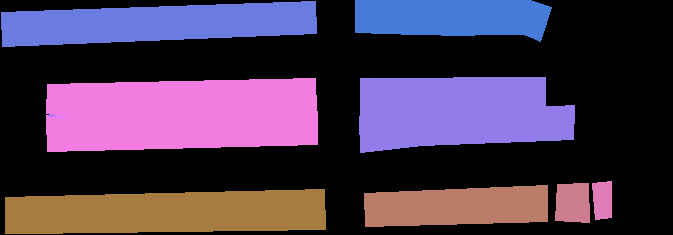parkingspot: (1, 1, 316, 46), (5, 189, 325, 233), (46, 78, 316, 119), (46, 111, 317, 151), (359, 105, 574, 152), (355, 0, 551, 41), (364, 185, 547, 226), (360, 77, 545, 116), (555, 183, 589, 222), (592, 181, 611, 219)
